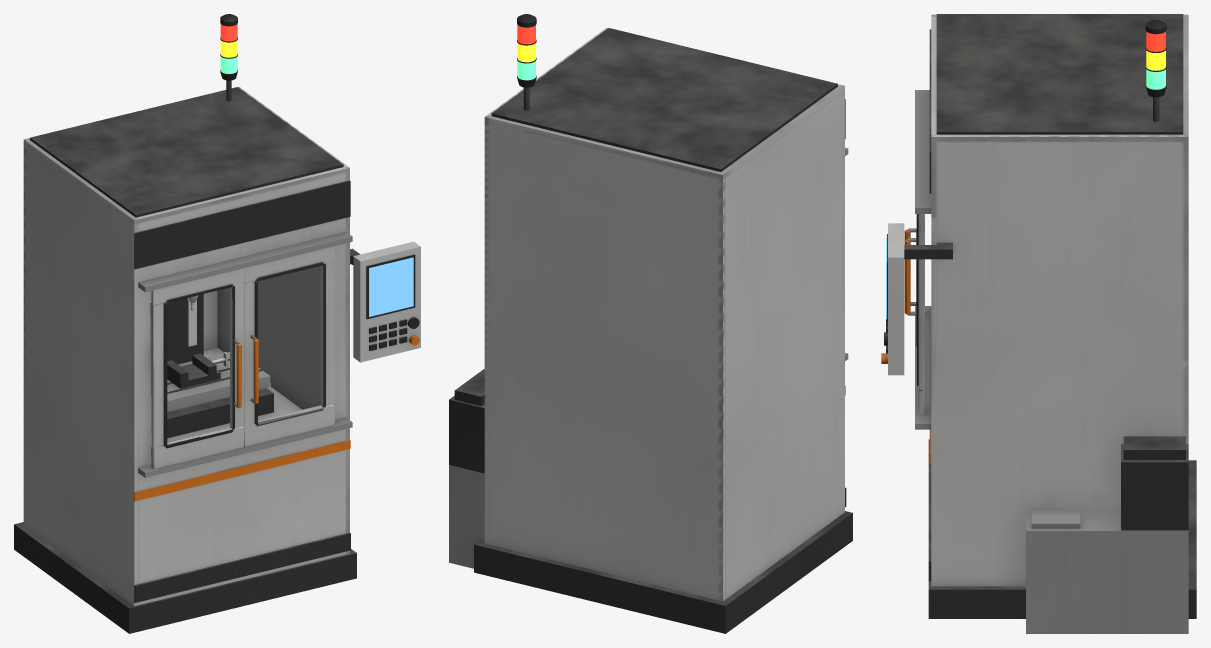
File: CncMachine.fbx
The picture shows the model from 3 angles, left to right: view 1: azimuth 30°, elevation 25°; view 2: azimuth 150°, elevation 25°; view 3: azimuth 270°, elevation 25°; orthographic projection. The views are drawn at different scales.
Parts seen in each view (by area): view 1: Body_LOD0, Door_L_LOD0, Door_R_LOD0, Table_LOD0; view 2: Body_LOD0; view 3: Body_LOD0, Door_R_LOD0, Beacon_LOD0.
Boxes of the visible parts, box(x1,y1,x2,y2) form: Body_LOD0: box(14, 87, 420, 633); Door_L_LOD0: box(150, 268, 244, 468); Door_R_LOD0: box(244, 246, 335, 446); Table_LOD0: box(167, 352, 270, 411); Body_LOD0: box(449, 27, 852, 633); Body_LOD0: box(881, 14, 1196, 633); Door_R_LOD0: box(904, 214, 924, 414); Beacon_LOD0: box(1145, 20, 1166, 121).
Size of what is drawn, in the model's own units: 1.36 by 2.36 by 1.16.
1 material, 1 textured.
